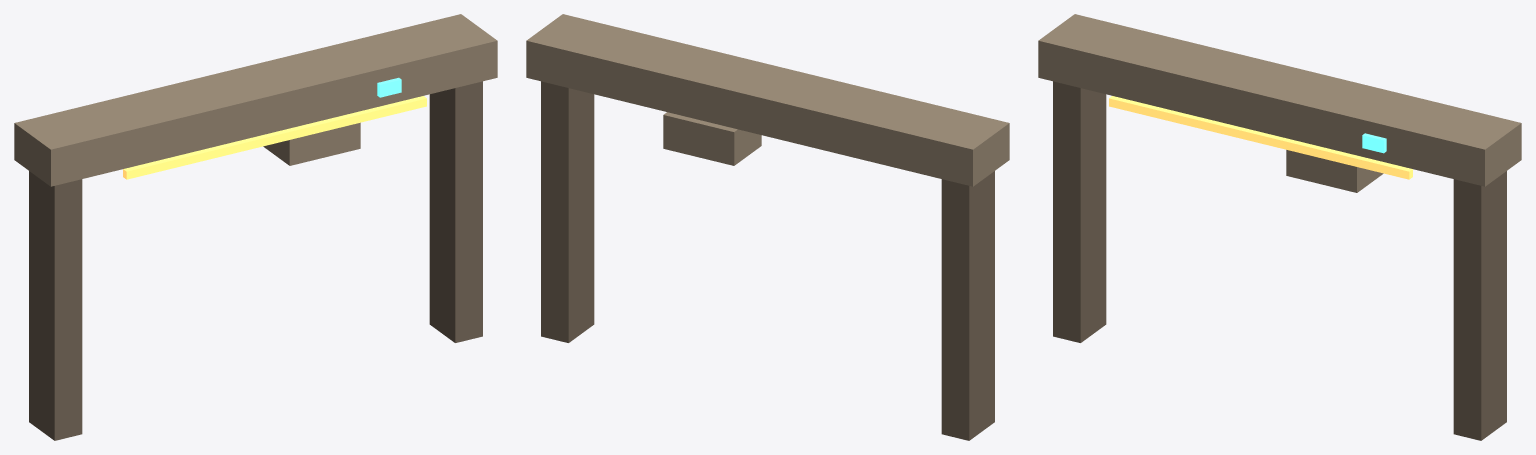
File: refinery-smelter-gantry-lod2.glb
3 views of the same model, side by side, from view 1: azimuth 30°, elevation 25°; view 2: azimuth 150°, elevation 25°; view 3: azimuth 330°, elevation 25° (orthographic).
Visible parts, largest first — view 1: refinery-smelter-gantry-beam, refinery-smelter-gantry-left, refinery-smelter-gantry-right, refinery-smelter-gantry-hazard, refinery-smelter-gantry-carriage; view 2: refinery-smelter-gantry-beam, refinery-smelter-gantry-left, refinery-smelter-gantry-right, refinery-smelter-gantry-carriage; view 3: refinery-smelter-gantry-beam, refinery-smelter-gantry-right, refinery-smelter-gantry-left, refinery-smelter-gantry-hazard, refinery-smelter-gantry-carriage.
Boxes of the visible parts, <box> form: refinery-smelter-gantry-beam: <box>14,14,497,186</box>; refinery-smelter-gantry-left: <box>29,171,82,440</box>; refinery-smelter-gantry-right: <box>429,81,482,342</box>; refinery-smelter-gantry-hazard: <box>123,96,426,179</box>; refinery-smelter-gantry-carriage: <box>263,122,360,165</box>; refinery-smelter-gantry-beam: <box>526,14,1009,186</box>; refinery-smelter-gantry-left: <box>941,171,994,440</box>; refinery-smelter-gantry-right: <box>541,81,594,342</box>; refinery-smelter-gantry-carriage: <box>663,112,761,165</box>; refinery-smelter-gantry-beam: <box>1038,14,1521,186</box>; refinery-smelter-gantry-right: <box>1453,171,1506,440</box>; refinery-smelter-gantry-left: <box>1053,81,1106,342</box>; refinery-smelter-gantry-hazard: <box>1109,96,1412,179</box>; refinery-smelter-gantry-carriage: <box>1286,150,1383,192</box>.
Bounding box in the file's own units: 5.8 × 3.69 × 0.88.
